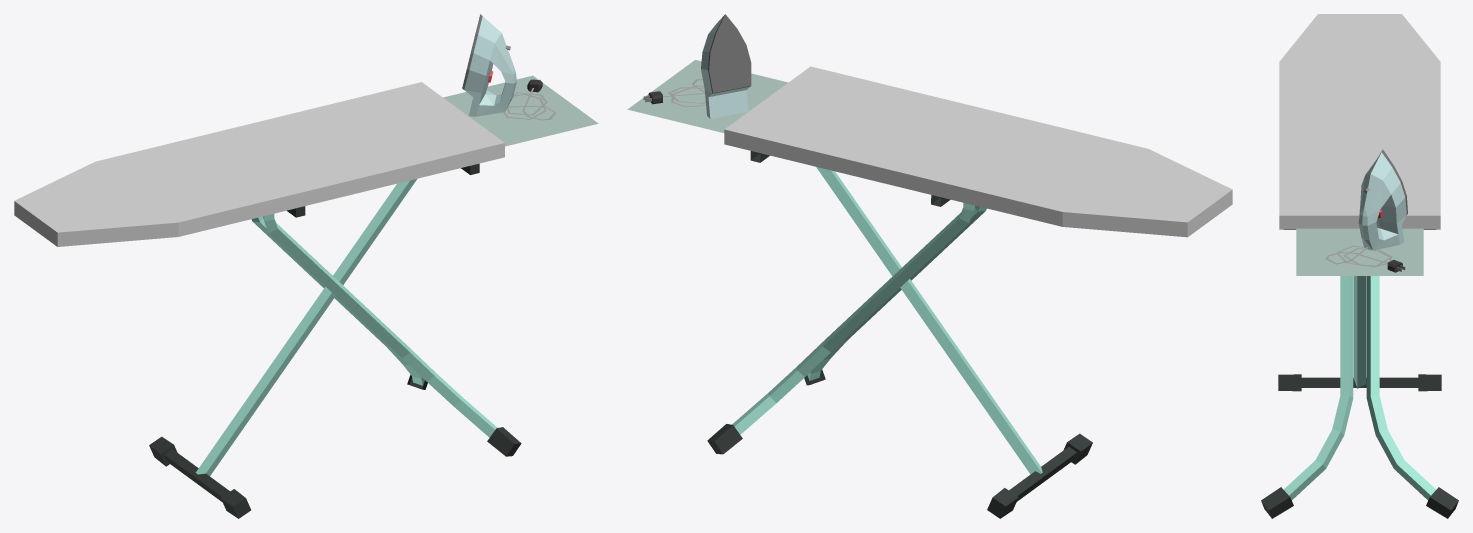
File: Iron_Table.fbx
3 renders of one model, left to right at view 1: azimuth 30°, elevation 25°; view 2: azimuth 150°, elevation 25°; view 3: azimuth 270°, elevation 25°, orthographic. The views are drawn at different scales.
Parts seen in each view (by area): view 1: Iron_Table, Iron; view 2: Iron_Table, Iron; view 3: Iron_Table, Iron, Wire.
Part boxes in pixels (x1,y1,x2,y2): Iron_Table: (14, 75, 598, 518); Iron: (462, 14, 516, 116); Iron_Table: (627, 60, 1232, 518); Iron: (701, 14, 751, 118); Iron_Table: (1261, 14, 1458, 518); Iron: (1358, 150, 1407, 250); Wire: (1325, 245, 1392, 267).
Size of the model in its own units: 2.17 by 1.54 by 0.7258.
